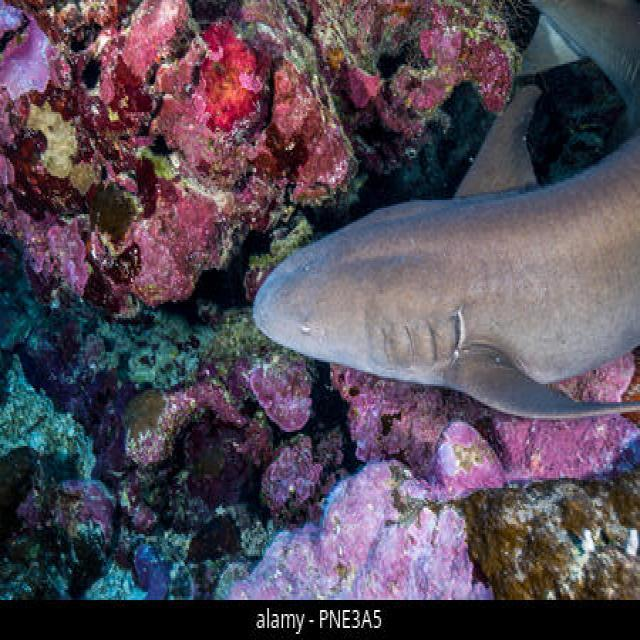Shark: (259, 56, 640, 452)
